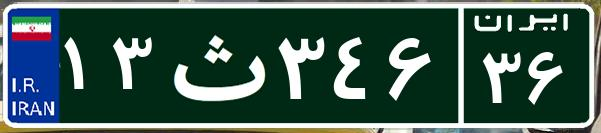1: (57, 26, 110, 107)
3: (273, 28, 330, 110), (475, 38, 525, 113), (110, 28, 158, 105)
4: (330, 28, 385, 110)
6: (385, 28, 445, 110), (525, 38, 570, 115)
ث: (158, 15, 273, 115)
